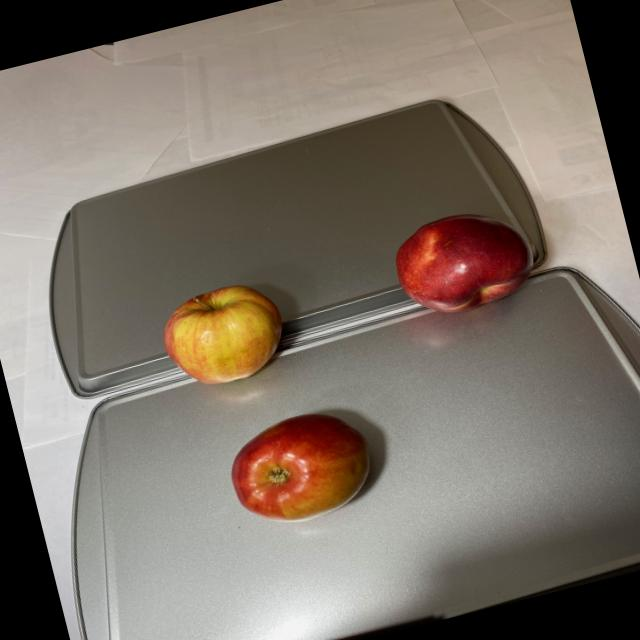apple: (151, 258, 392, 544), (379, 195, 546, 335)
